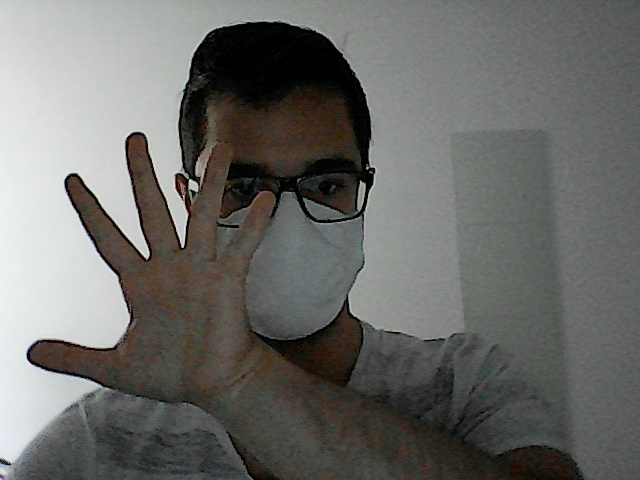jump: (22, 128, 282, 406)
